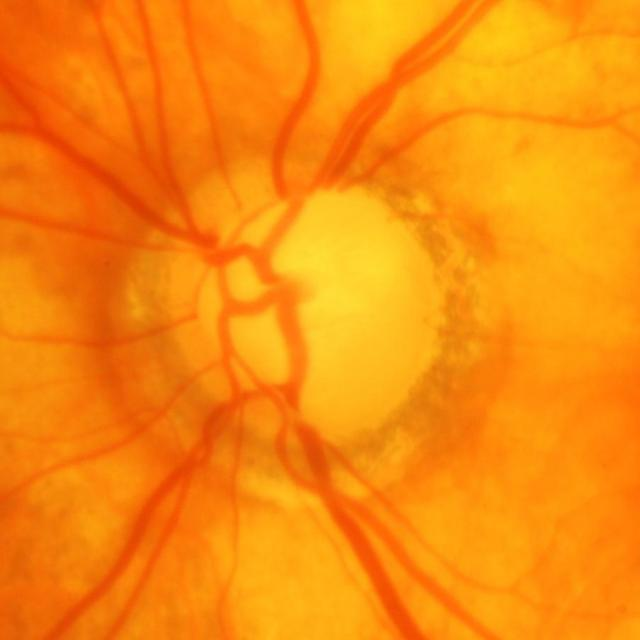OC: (214, 233, 375, 372)
OD: (164, 192, 441, 440)
